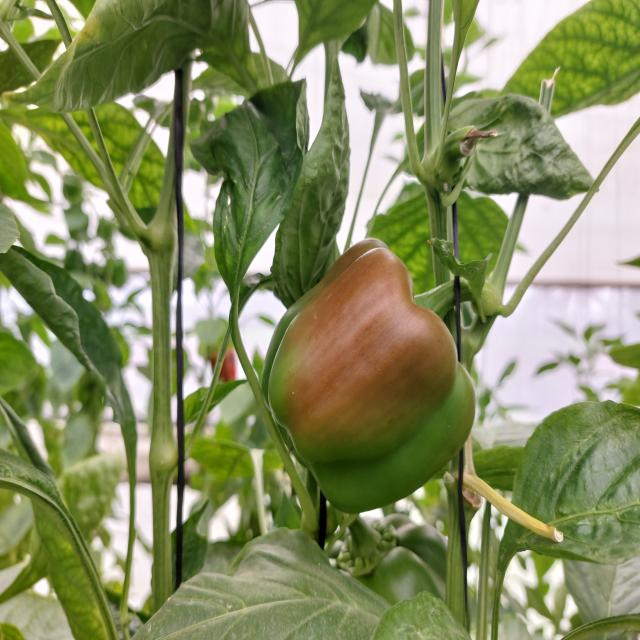BrownishRed--Can-be-Harvested: (257, 234, 480, 520)
